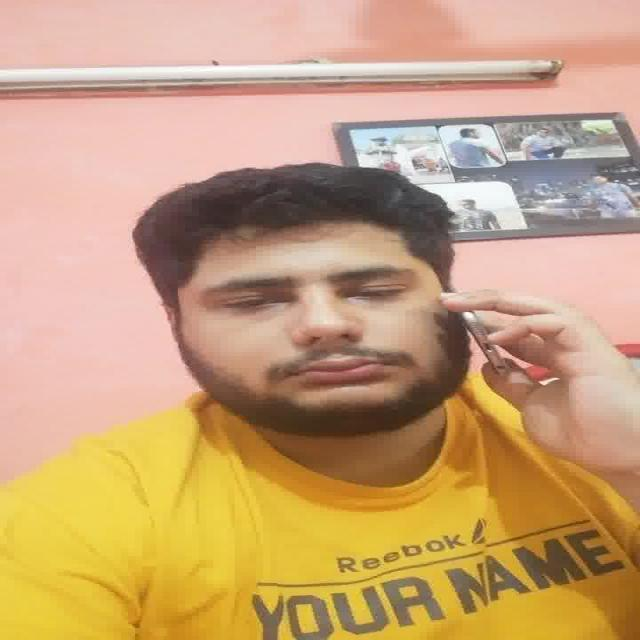Phone: (464, 314, 510, 376)
